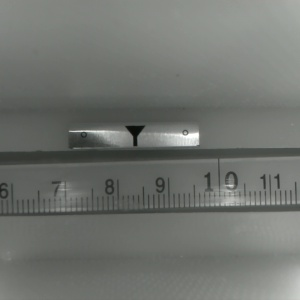0: (224, 171, 237, 191)
1: (203, 171, 211, 191), (260, 173, 266, 190), (274, 173, 280, 189)
6: (0, 182, 8, 199)
7: (51, 181, 62, 196)
8: (103, 178, 113, 194)
9: (154, 176, 164, 193)
finger: (123, 126, 145, 147)
